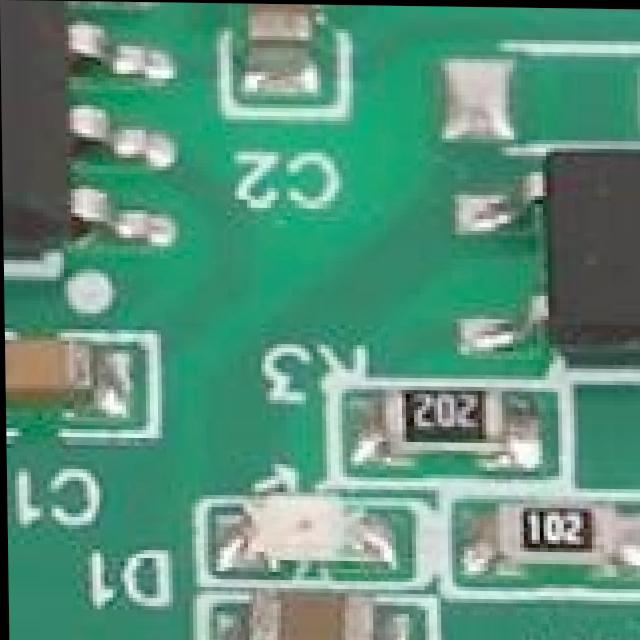IC: (486, 146, 640, 359), (0, 0, 127, 249)
LED: (230, 487, 371, 572)
capacitor: (4, 332, 125, 401), (236, 3, 329, 88), (251, 587, 399, 640)
resistor: (466, 483, 606, 563), (368, 374, 517, 446)
